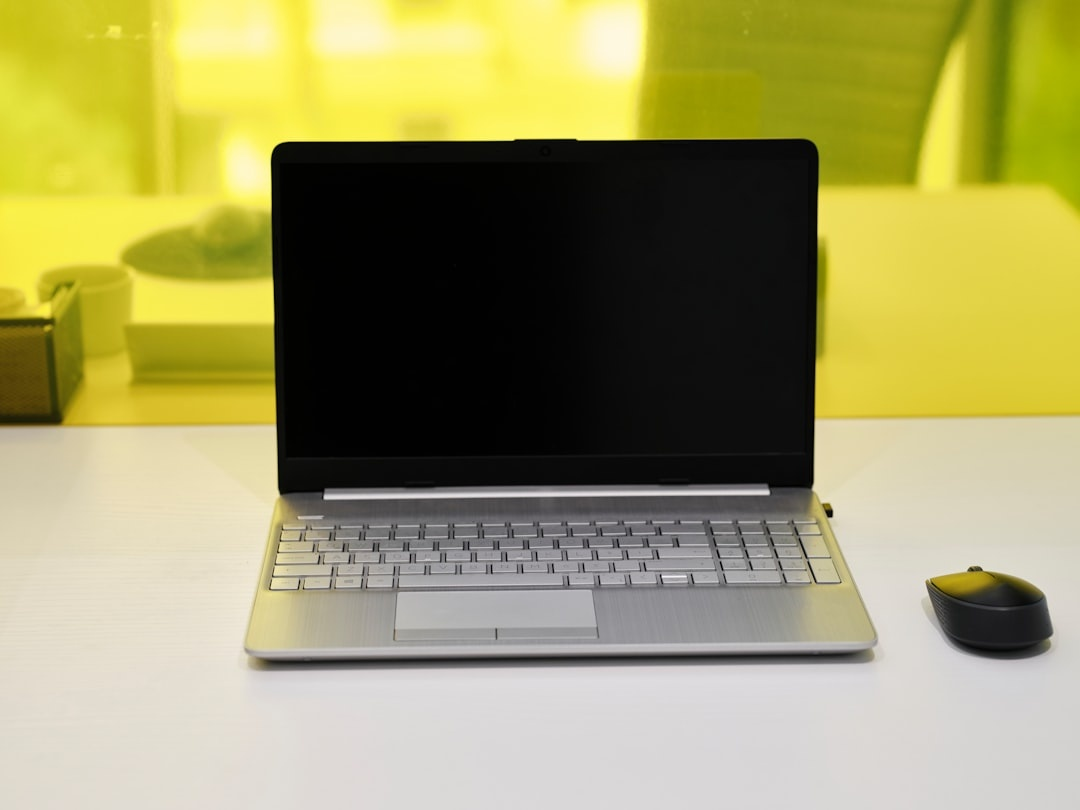laptop: (200, 98, 900, 676)
